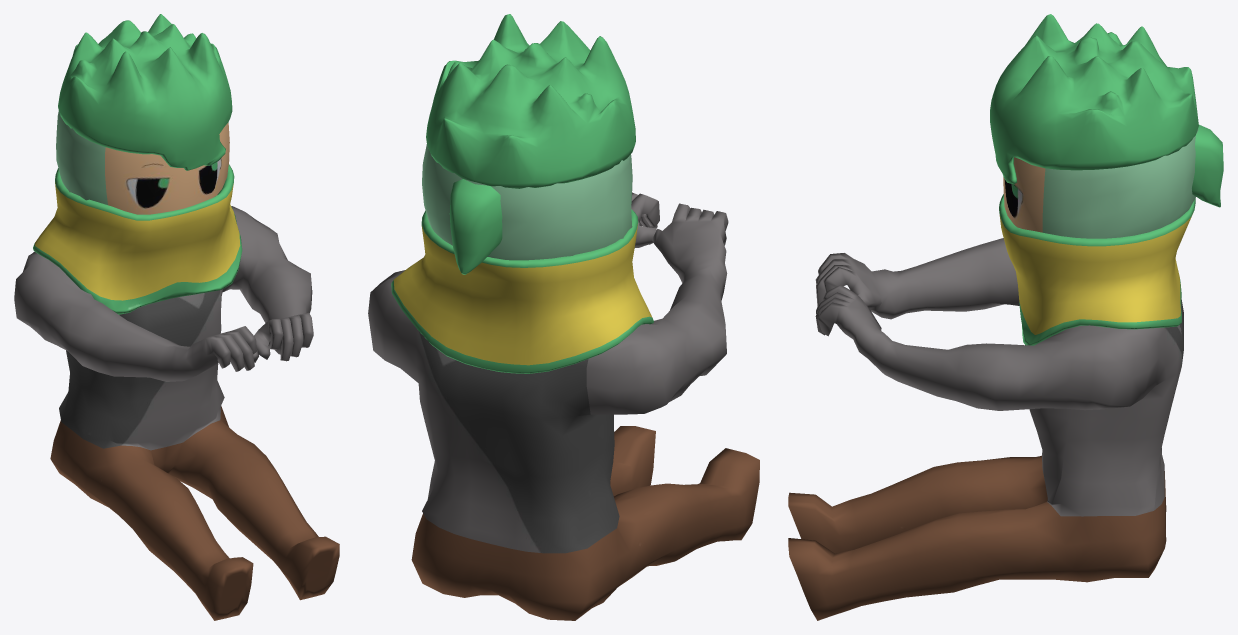
The model's file is Escudero.fbx.
3 views of the same model, side by side, from view 1: azimuth 30°, elevation 25°; view 2: azimuth 150°, elevation 25°; view 3: azimuth 270°, elevation 25° (orthographic). The views are drawn at different scales.
Visible parts, largest first — view 1: polySurface72; view 2: polySurface72; view 3: polySurface72.
Boxes of the visible parts, x1,y1,x2,y2 form: polySurface72: (14,14,339,620); polySurface72: (368,14,759,620); polySurface72: (788,14,1223,620).
Size of the model in its own units: 197 by 375 by 267.
Materials: 1 (1 with a texture image).
